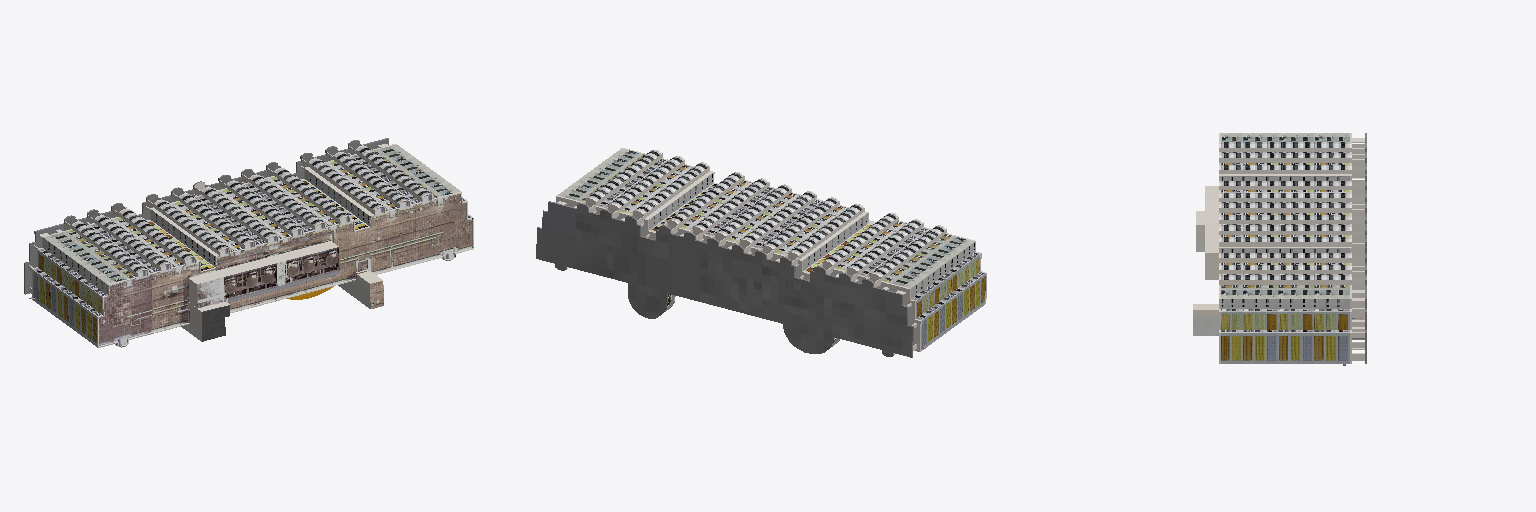
3 renders of one model, left to right at view 1: azimuth 30°, elevation 25°; view 2: azimuth 150°, elevation 25°; view 3: azimuth 270°, elevation 25°, orthographic.
Visible parts, largest first — view 1: polygon.799; view 2: polygon.799; view 3: polygon.799.
Part boxes in pixels (bbox=[...]): polygon.799: bbox=[24, 138, 473, 347]; polygon.799: bbox=[536, 148, 986, 357]; polygon.799: bbox=[1193, 133, 1366, 365].
Bounding box in the file's own units: 103 × 25.32 × 40.77.
Materials: 1 (1 with a texture image).